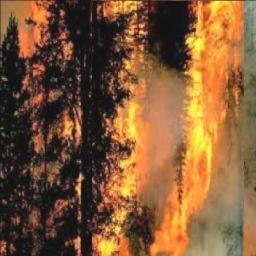Large fire: (22, 0, 244, 256)
Low smoke: (132, 59, 244, 256)
